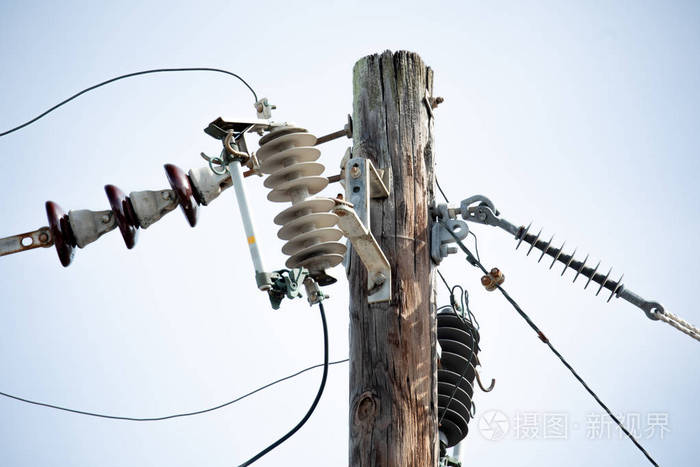insulator: (43, 164, 194, 269), (262, 130, 346, 268), (513, 220, 626, 304), (437, 309, 482, 443)
